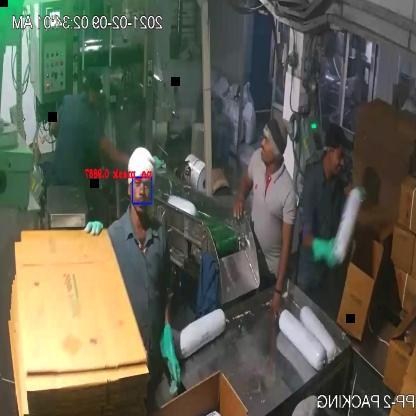glove: (159, 320, 183, 399), (309, 229, 343, 276)
no_glove: (268, 198, 298, 328), (234, 157, 258, 224)
